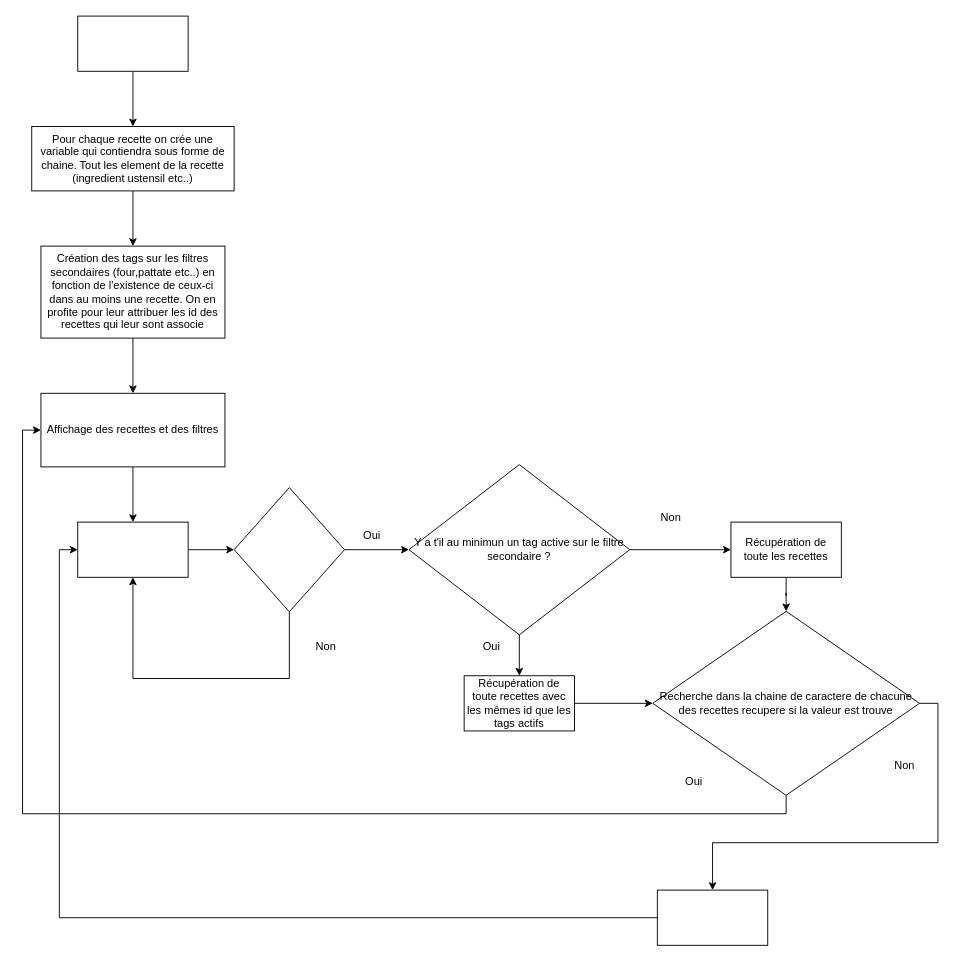
This 961x961 diagram has some shape labels left out. The shapes that lost their labels are listed below. From the top down, each one's centre as x and y in pixels, then its label:
point 132,43: Recuperation des datas sur les recettes
point 132,549: Utilisateur tape une recherche dans la barre principale
point 289,549: Si le champs et supérieure ou egale a 3 caractere
point 712,917: Affichage du message d'erreur "Aucune recette trouve"
